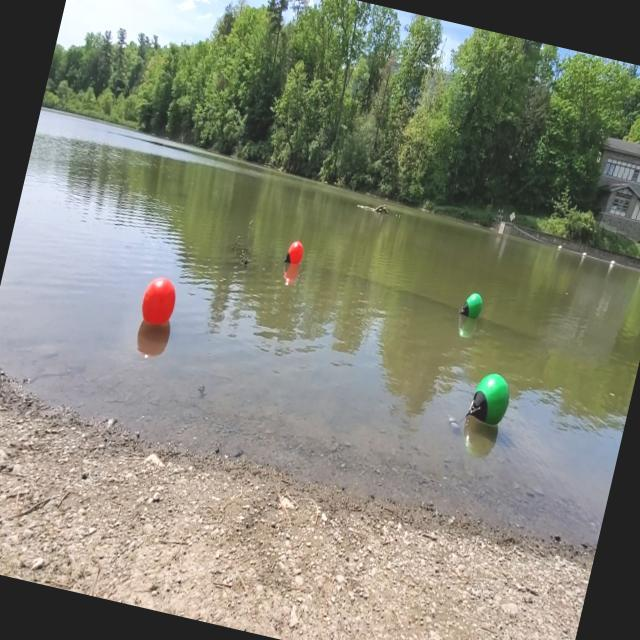buoy: (462, 368, 513, 432), (137, 271, 181, 331), (458, 288, 483, 320), (282, 239, 306, 268)
